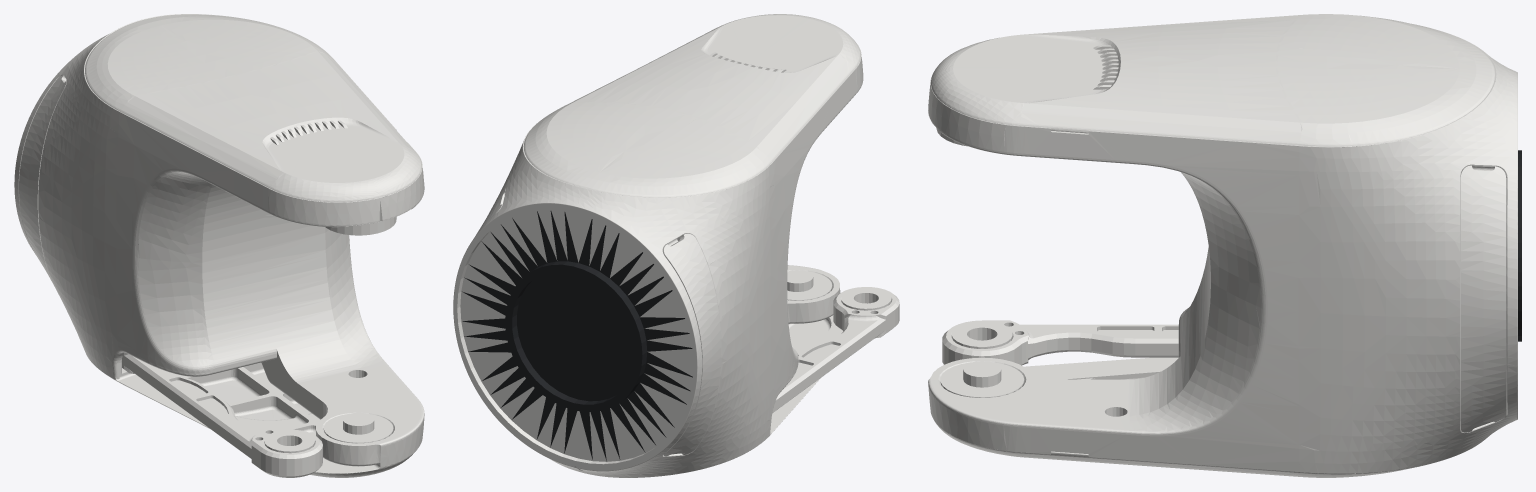
Rendered from AR5_5_08R_W4C4A6_link5_vis.obj.
3 views of the same model, side by side, from view 1: azimuth 30°, elevation 25°; view 2: azimuth 150°, elevation 25°; view 3: azimuth 270°, elevation 25° (orthographic). The views are drawn at different scales.
Parts seen in each view (by area): view 1: AR5_5_08R_W4C4A6_link5; view 2: AR5_5_08R_W4C4A6_link5; view 3: AR5_5_08R_W4C4A6_link5.
Part boxes in pixels (x1,y1,x2,y2): AR5_5_08R_W4C4A6_link5: (14,14,424,477); AR5_5_08R_W4C4A6_link5: (453,14,899,477); AR5_5_08R_W4C4A6_link5: (928,14,1521,477).
Bounding box in the file's own units: 0.0892 × 0.1067 × 0.1551.
1 material, 1 textured.
